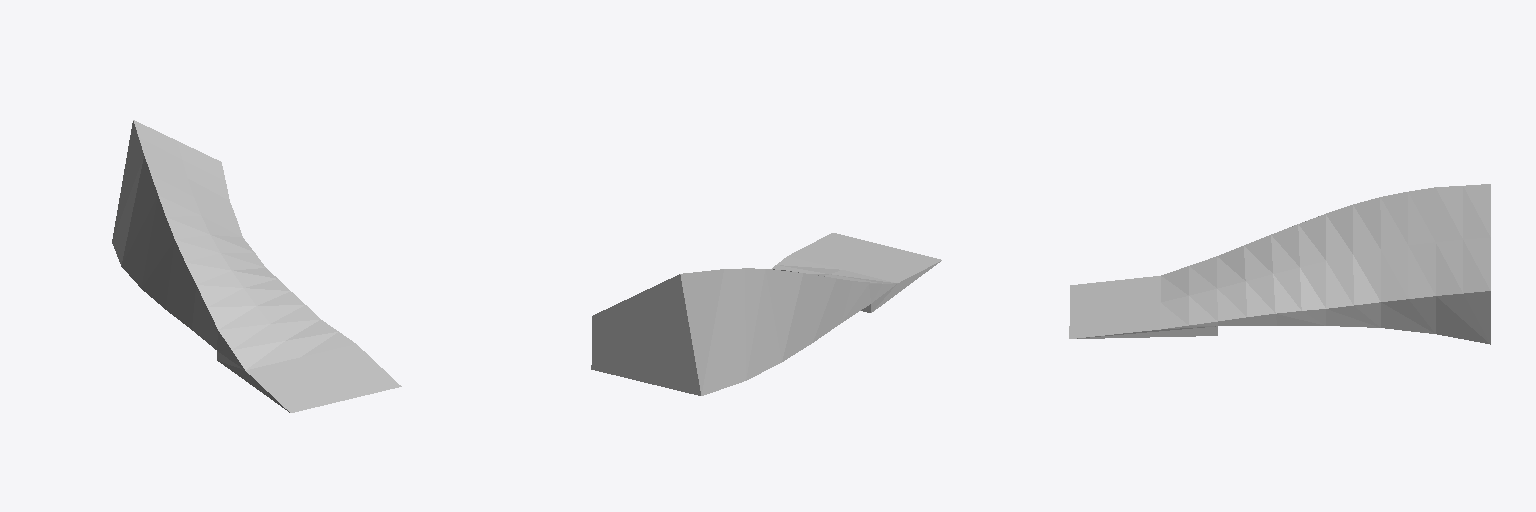
Rendered from curved_ramp_collision_detailed.obj.
3 renders of one model, left to right at view 1: azimuth 30°, elevation 25°; view 2: azimuth 150°, elevation 25°; view 3: azimuth 270°, elevation 25°, orthographic.
Parts seen in each view (by area): view 1: CurvedSlopeMainMesh_Cube.002; view 2: CurvedSlopeMainMesh_Cube.002; view 3: CurvedSlopeMainMesh_Cube.002.
Part boxes in pixels (left/top/right/bottom): CurvedSlopeMainMesh_Cube.002: left=112, top=120, right=401, bottom=412; CurvedSlopeMainMesh_Cube.002: left=591, top=233, right=941, bottom=395; CurvedSlopeMainMesh_Cube.002: left=1069, top=184, right=1490, bottom=344.
Size of the model in its own units: 1.63 by 1.39 by 4.18.